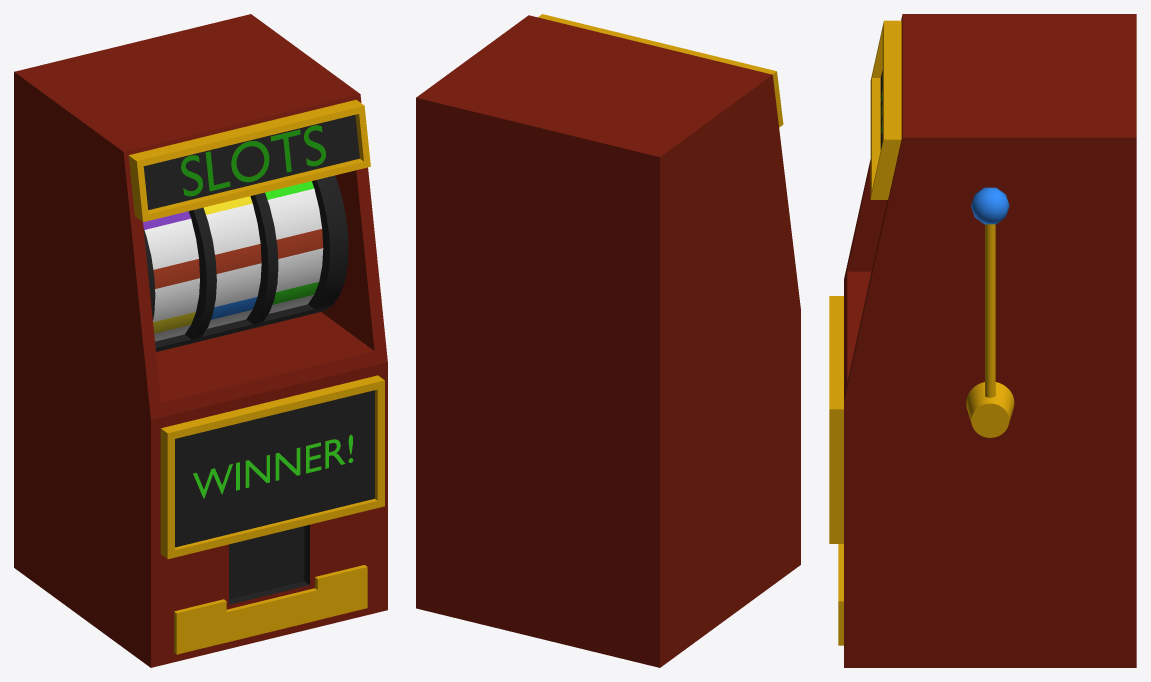
Rendered from slotMachine.fbx.
3 renders of one model, left to right at view 1: azimuth 30°, elevation 25°; view 2: azimuth 150°, elevation 25°; view 3: azimuth 270°, elevation 25°, orthographic. The views are drawn at different scales.
Parts seen in each view (by area): view 1: Cube; view 2: Cube; view 3: Cube.
Boxes of the visible parts, x1,y1,x2,y2 form: Cube: (14,14,387,667); Cube: (416,14,800,667); Cube: (829,14,1136,667).
Size of the model in its own units: 57.38 by 100 by 52.5.
